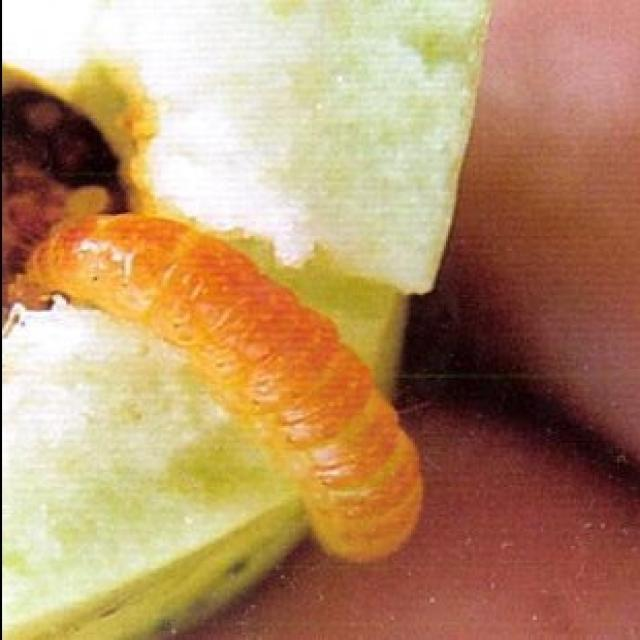peach borer: (27, 194, 438, 576)
